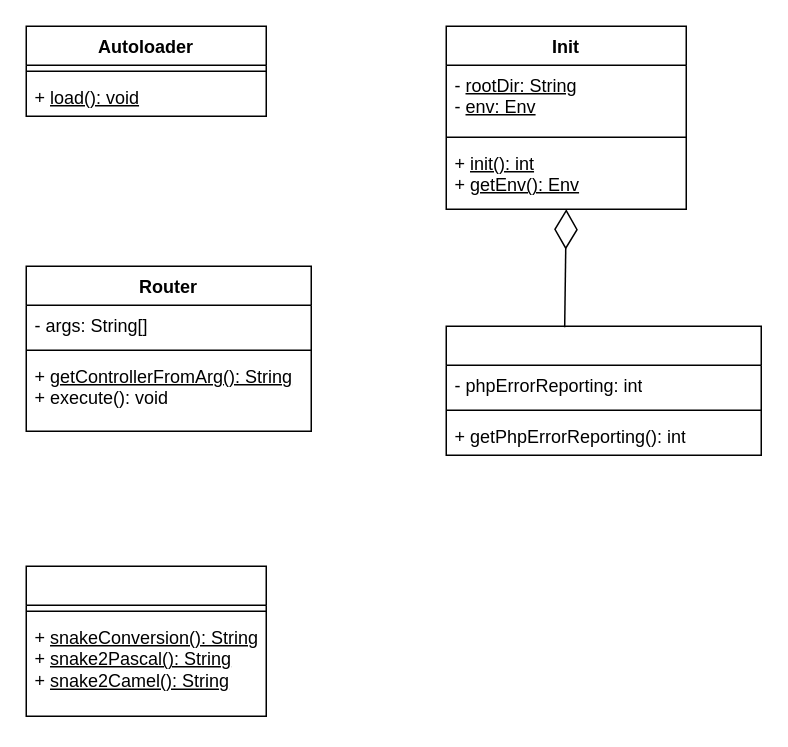
Image size: 788x747. Some labels were removed from this diagram. Each missing label, with the box of its shape:
Env: (445, 325, 761, 455)
Util: (25, 565, 266, 716)
